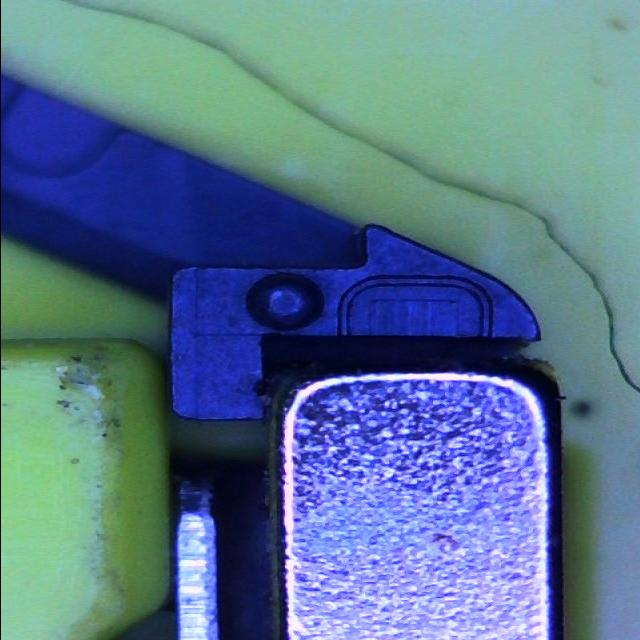noResin: (335, 274, 495, 342)
